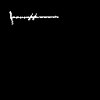treble_crochet: (10, 11, 57, 21)
